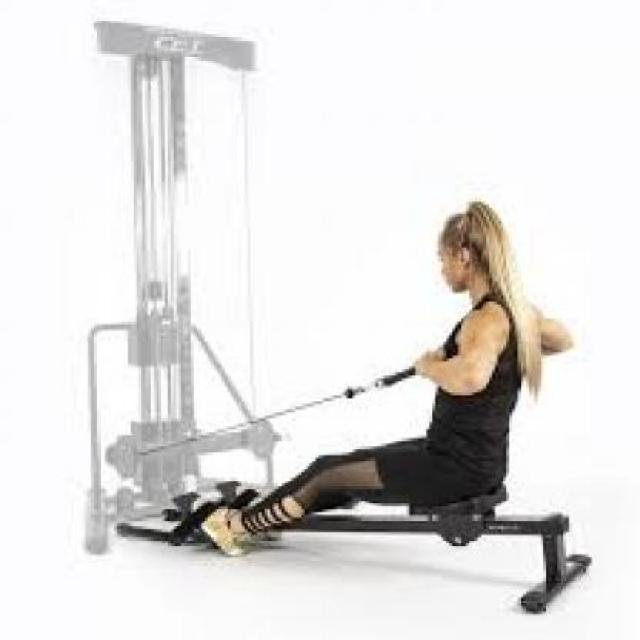Seated Cable Rows: (61, 14, 604, 612)
